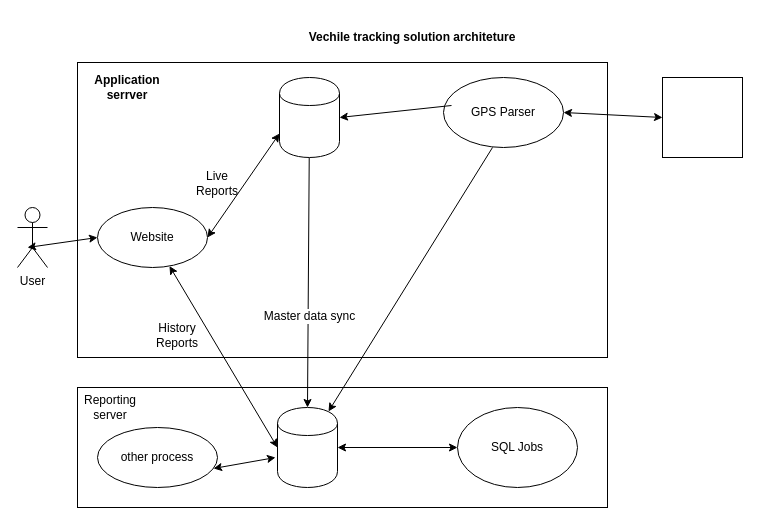
Some shapes in this 760 by 525 pixel diagram are drawn without their labels. Each missing label, with the centre of its shape:
"GPS tracker device" belongs at point (702, 117).
"Live Database" belongs at point (309, 117).
"Reporting Database" belongs at point (307, 447).
